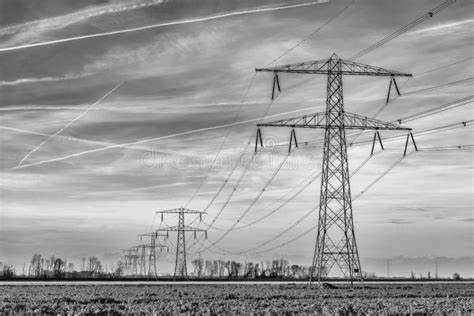power_tower: (248, 54, 418, 289), (155, 203, 215, 277), (133, 230, 168, 278)
